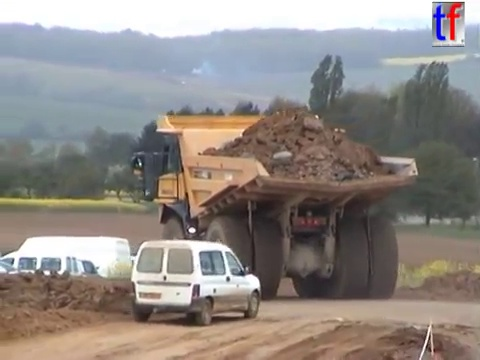truck: (128, 110, 420, 303)
